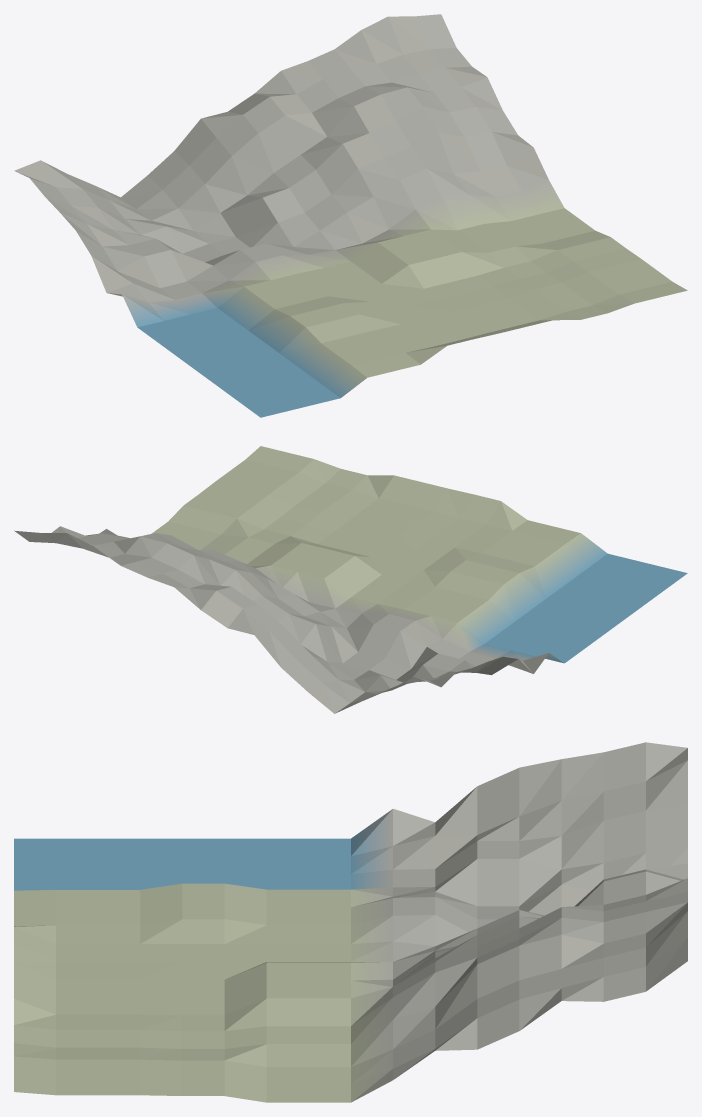
The picture shows the model from 3 angles, top to bottom: view 1: azimuth 30°, elevation 25°; view 2: azimuth 150°, elevation 25°; view 3: azimuth 270°, elevation 25°; orthographic projection. The views are drawn at different scales.
Size of the model in its own units: 32 by 9.26 by 32.
